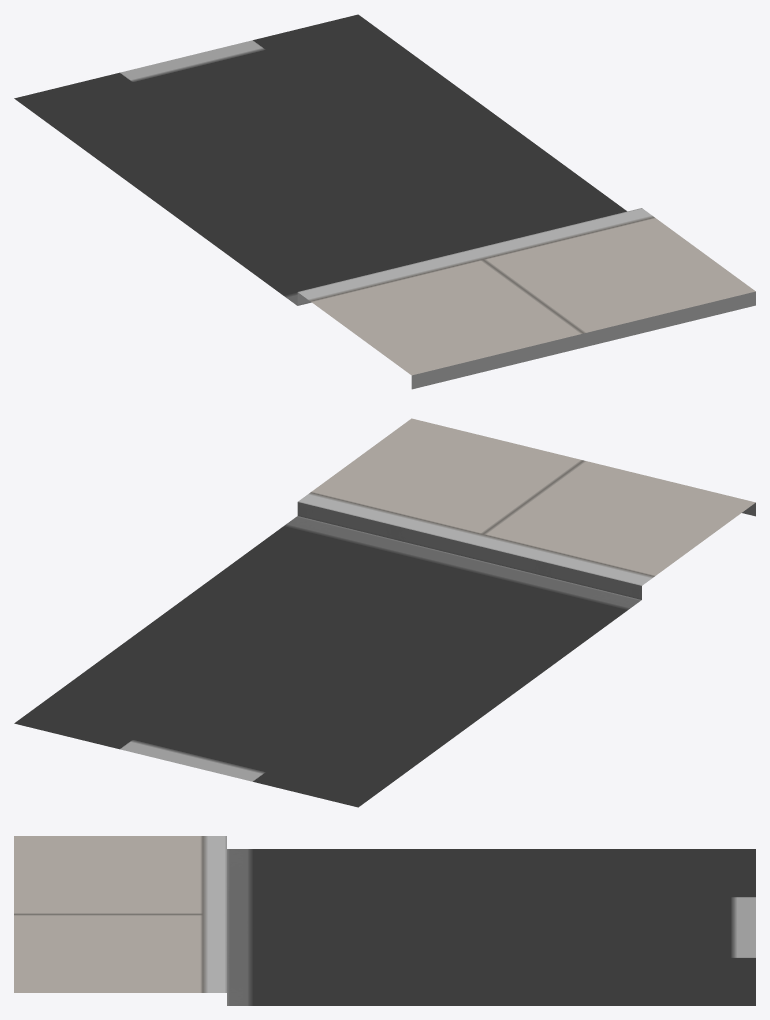
File: SM_Env_Road_straight_mesh_01.fbx
3 renders of one model, top to bottom at view 1: azimuth 30°, elevation 25°; view 2: azimuth 150°, elevation 25°; view 3: azimuth 270°, elevation 25°, orthographic. The views are drawn at different scales.
Parts seen in each view (by area): view 1: SM_Env_Road_straight_mesh_01; view 2: SM_Env_Road_straight_mesh_01; view 3: SM_Env_Road_straight_mesh_01.
Part boxes in pixels (left/top/right/bottom): SM_Env_Road_straight_mesh_01: left=14, top=14, right=755, bottom=389; SM_Env_Road_straight_mesh_01: left=14, top=418, right=755, bottom=807; SM_Env_Road_straight_mesh_01: left=14, top=836, right=755, bottom=1005.
Size of the model in its own units: 5 by 0.1948 by 10.
